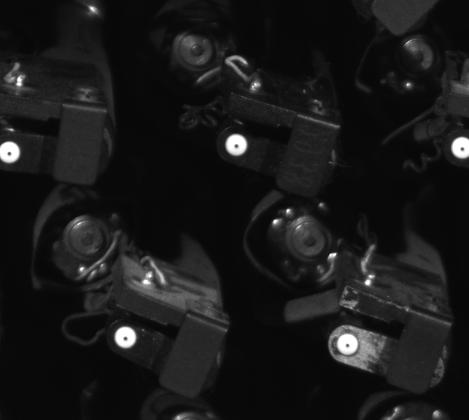fiber: (332, 328, 366, 363), (111, 322, 144, 354), (219, 130, 253, 160), (1, 136, 27, 169), (449, 131, 469, 166)
